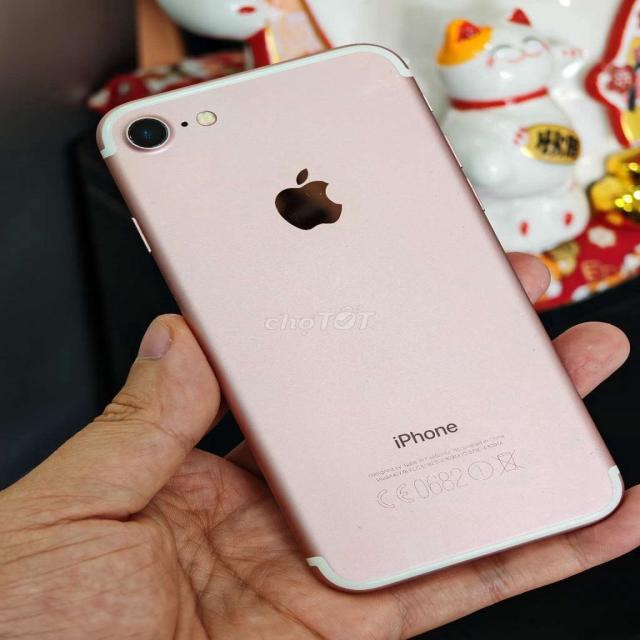gen_7_8: (92, 37, 628, 600)
scratch: (517, 477, 624, 500), (120, 114, 172, 152), (586, 438, 607, 462), (352, 516, 371, 536), (298, 186, 328, 198), (567, 432, 584, 442)
